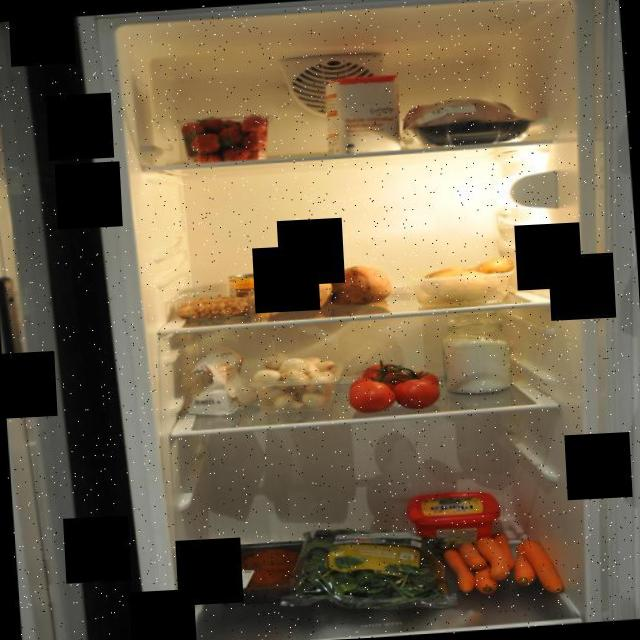Carne pollo: (398, 86, 537, 156)
Carne vacuno: (198, 537, 334, 609)
Champiñones: (250, 349, 340, 406)
Gambas/Langostinos: (174, 292, 259, 324)
Mantequilla: (404, 487, 504, 559)
Patata: (413, 257, 520, 303)
Tomate: (337, 352, 449, 420)
Zanahoria: (434, 522, 574, 604)
corn: (228, 271, 278, 313)
flour: (174, 345, 262, 422)
spinach: (273, 516, 458, 620)
strawberries: (166, 108, 284, 168)
sugar: (439, 308, 515, 397), (324, 73, 404, 155)
sweet_potato: (256, 262, 402, 316)
